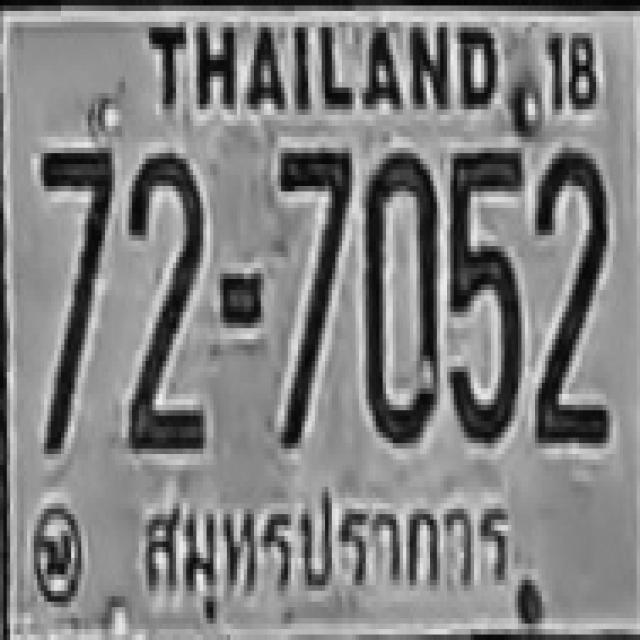0: (362, 150, 437, 440)
2: (124, 148, 202, 448), (532, 148, 606, 443)
5: (447, 145, 521, 440)
7: (39, 145, 113, 451), (278, 142, 348, 443), (39, 142, 113, 356)
SamutPrakan: (135, 490, 516, 627)
